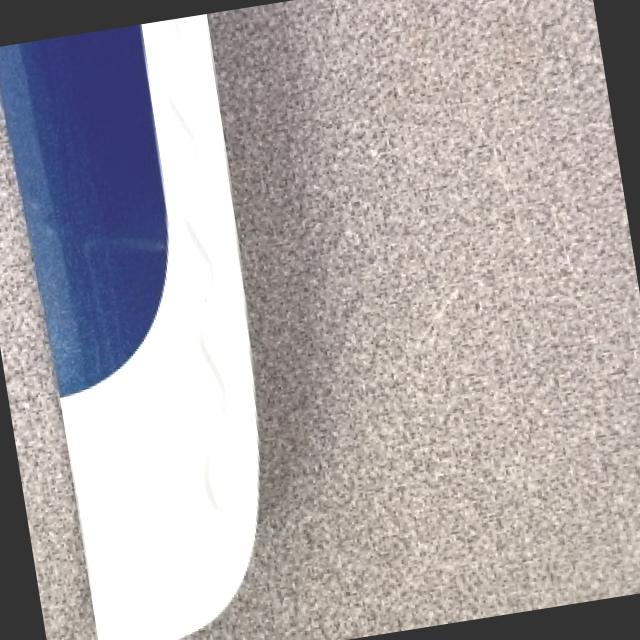healthy: (0, 14, 255, 640)
